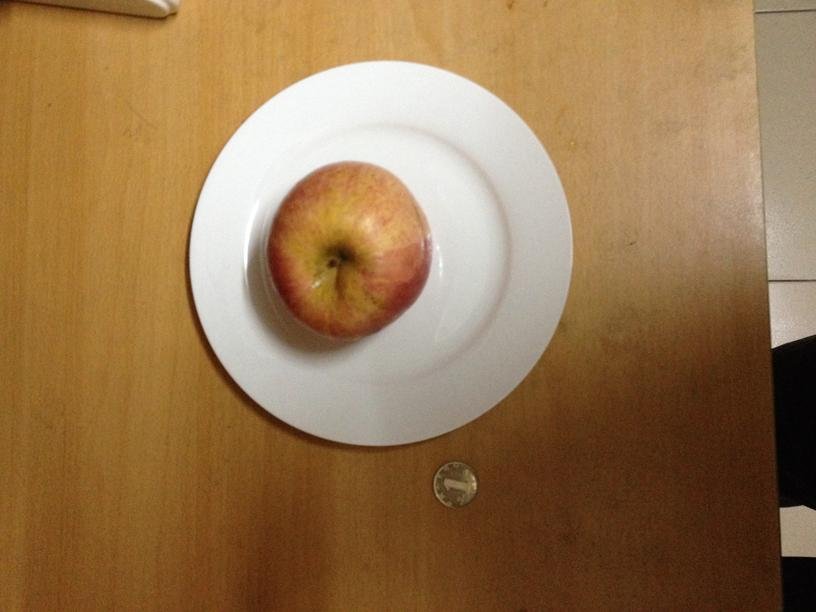apple: (269, 157, 430, 342)
coin: (430, 460, 479, 508)
